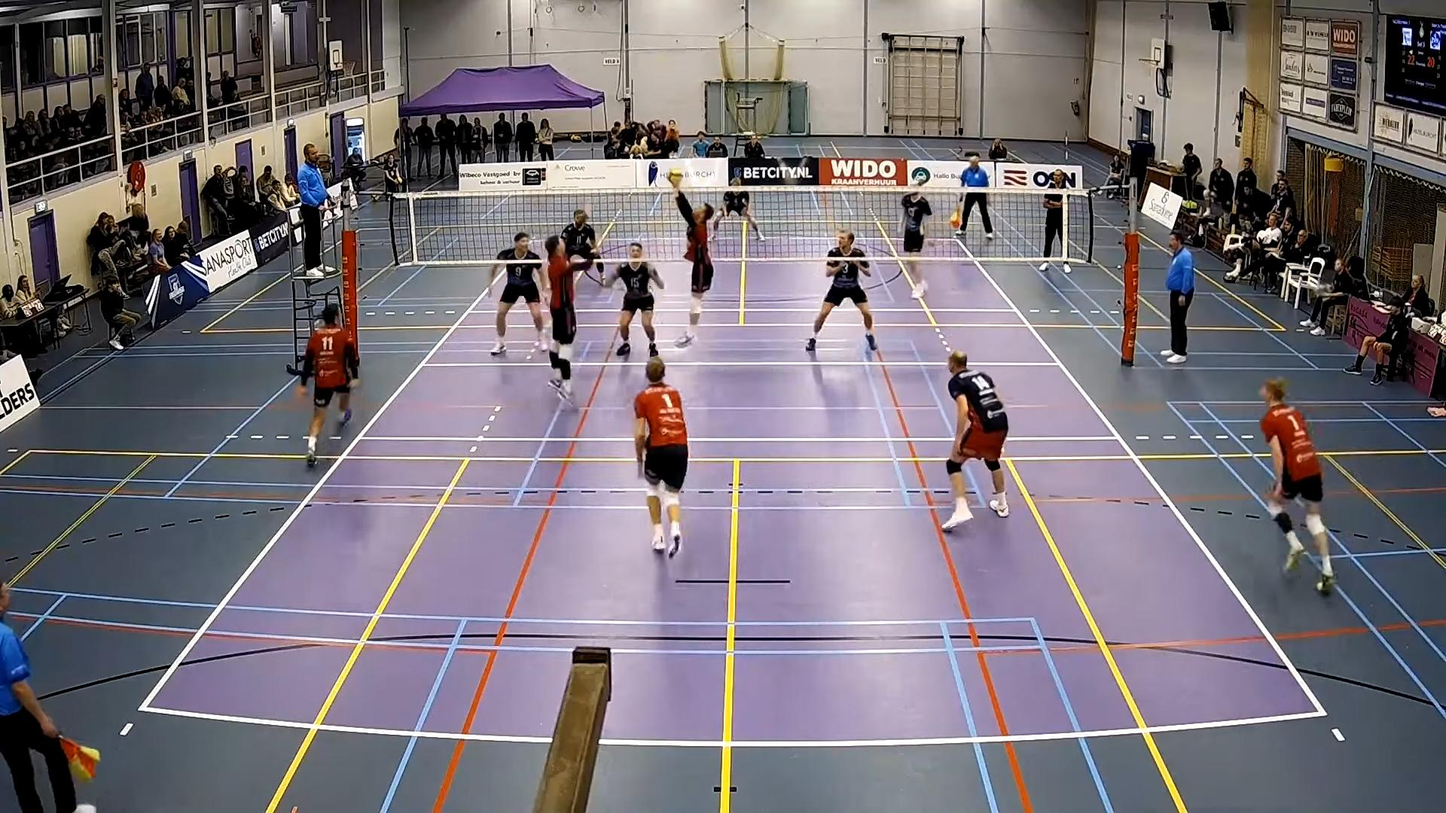Player: (1260, 379, 1334, 592), (941, 350, 1008, 531), (634, 357, 688, 556), (299, 304, 358, 466), (806, 230, 877, 352), (545, 236, 591, 403), (490, 233, 546, 355), (604, 242, 664, 355), (901, 182, 932, 299), (712, 178, 764, 241), (560, 209, 602, 278)
Set: (666, 170, 725, 348)
ball: (663, 170, 684, 184)
